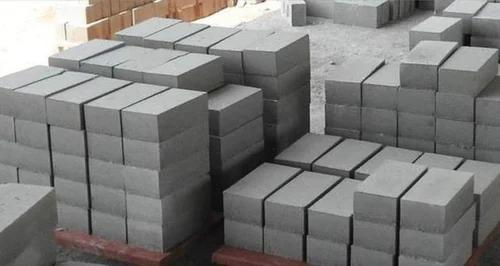Bricks: (122, 90, 209, 143), (127, 198, 213, 251), (119, 118, 208, 169), (399, 204, 477, 262), (125, 145, 209, 198), (400, 175, 475, 232), (127, 173, 212, 223), (358, 160, 427, 201), (401, 168, 473, 207), (268, 169, 341, 207), (237, 36, 310, 74), (245, 61, 315, 100), (88, 80, 166, 113), (49, 72, 131, 103), (225, 163, 299, 197), (127, 85, 209, 115), (18, 69, 96, 99), (313, 137, 381, 171), (218, 87, 267, 130), (149, 49, 219, 79), (219, 116, 265, 161), (263, 83, 313, 123), (357, 145, 425, 174), (114, 45, 187, 72), (313, 179, 364, 217), (82, 41, 151, 69), (281, 133, 341, 165), (0, 63, 64, 90), (55, 37, 125, 61), (442, 44, 499, 73), (454, 157, 499, 193), (350, 222, 397, 255), (87, 129, 127, 167), (309, 211, 353, 245), (179, 24, 240, 48), (264, 202, 308, 235), (401, 41, 459, 66), (327, 58, 384, 83), (147, 22, 208, 45), (215, 30, 275, 53), (397, 107, 436, 142), (265, 111, 309, 142), (353, 192, 397, 223), (264, 229, 304, 263), (207, 83, 259, 109), (116, 15, 177, 37), (223, 194, 264, 226), (89, 154, 124, 191), (89, 182, 126, 217), (248, 31, 309, 52), (305, 236, 349, 265), (90, 211, 127, 245), (83, 107, 123, 138), (44, 100, 81, 133), (358, 107, 400, 135), (223, 223, 263, 252), (58, 198, 89, 235), (435, 117, 473, 147), (471, 53, 499, 93), (53, 178, 91, 207), (400, 64, 439, 92), (437, 63, 471, 95), (437, 93, 473, 123), (51, 151, 87, 180), (399, 87, 435, 115), (326, 79, 363, 106), (413, 152, 465, 171), (361, 85, 397, 110), (16, 121, 48, 149), (412, 15, 461, 33), (325, 105, 363, 128), (51, 128, 83, 155), (365, 63, 399, 85), (473, 99, 499, 127), (475, 123, 499, 152), (353, 247, 391, 265), (468, 19, 499, 40), (18, 170, 52, 189), (473, 0, 499, 22), (445, 1, 483, 13), (1, 116, 16, 144)
